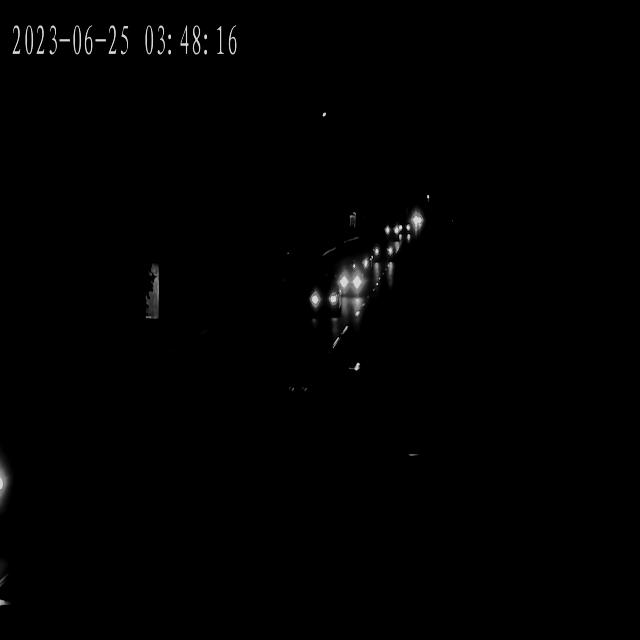Car: (0, 425, 42, 538), (306, 283, 342, 316), (334, 267, 367, 298), (372, 240, 397, 263), (356, 252, 373, 277), (384, 221, 399, 235), (406, 215, 420, 230)
